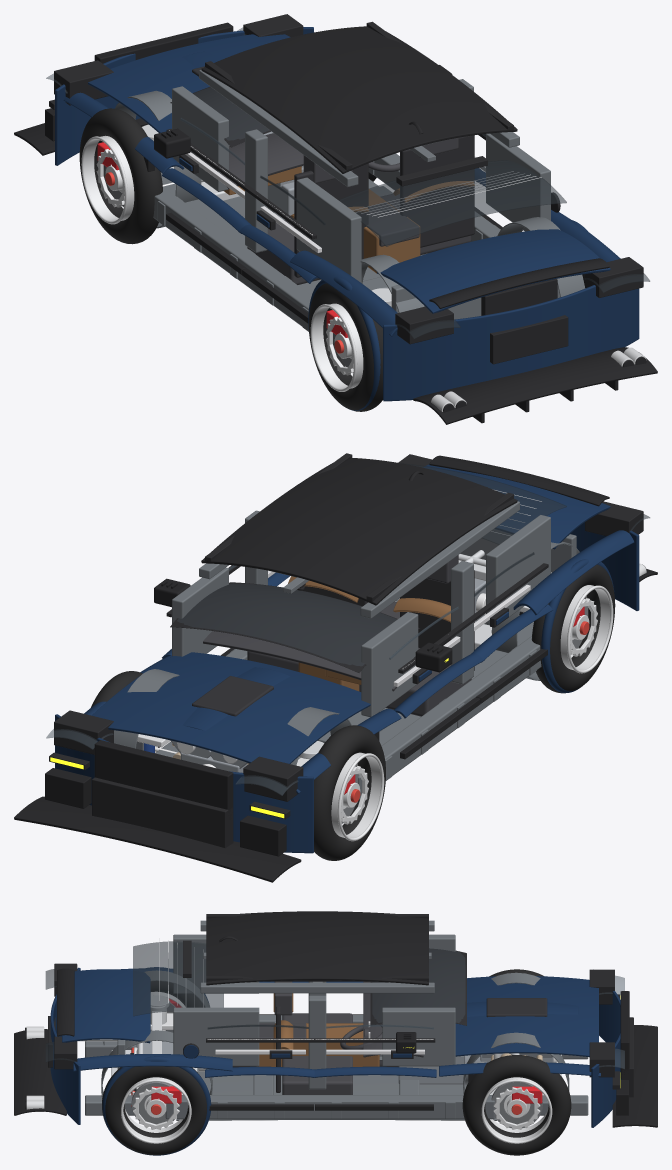
The model's file is Car_Sedan_Complete.glb.
3 renders of one model, top to bottom at view 1: azimuth 30°, elevation 25°; view 2: azimuth 150°, elevation 25°; view 3: azimuth 270°, elevation 25°, orthographic. The views are drawn at different scales.
Visible parts, largest first — view 1: ROOF_SKIN_CARBON, BODY_BUMPER_REAR, GLASS_REAR_BACKLIGHT, TRUNK_DECKLID_SHELL, REAR_BUMPER_DIFFUSER_TRAY, BODY_HOOD_OUTER, SEAT_SHELL_DRIVER, TIRE_FR, BIW_C_PILLAR_LEFT, BIW_C_PILLAR_RIGHT, BIW_SILL_-0.75, TIRE_RR (+42 smaller); view 2: ROOF_SKIN_CARBON, BODY_HOOD_OUTER, WINDSHIELD_CERAMIC_FRIT, GLASS_WINDSHIELD_LAMINATED, BUMPER_FRONT_SPLITTER_LIP, GRILLE_SURROUND_BEZEL, BUMPER_CENTER_AIR_DAM, TIRE_FR, BIW_SILL_-0.75, BIW_A_PILLAR_RIGHT, BODY_BUMPER_FRONT, TRUNK_DECKLID_SHELL (+36 smaller); view 3: ROOF_SKIN_CARBON, BODY_HOOD_OUTER, TRUNK_DECKLID_SHELL, TIRE_FL, BIW_SILL_0.75, GLASS_REAR_BACKLIGHT, TIRE_RL, BIW_C_PILLAR_LEFT, BIW_A_PILLAR_LEFT, WINDSHIELD_CERAMIC_FRIT, GLASS_WINDSHIELD_LAMINATED, FLOOR_PAN (+52 smaller).
Part boxes in pixels (x1,y1,x2,y2): ROOF_SKIN_CARBON: (201,26,517,173); BODY_BUMPER_REAR: (383,285,639,401); GLASS_REAR_BACKLIGHT: (338,160,566,246); TRUNK_DECKLID_SHELL: (377,229,610,313); REAR_BUMPER_DIFFUSER_TRAY: (413,347,657,424); BODY_HOOD_OUTER: (88,34,290,132); SEAT_SHELL_DRIVER: (400,135,474,247); TIRE_FR: (79,108,162,244); BIW_C_PILLAR_LEFT: (486,133,550,231); BIW_C_PILLAR_RIGHT: (296,177,361,282); BIW_SILL_-0.75: (153,187,336,351); TIRE_RR: (308,283,382,411); ROOF_SKIN_CARBON: (201,458,517,605); BODY_HOOD_OUTER: (92,652,370,763); WINDSHIELD_CERAMIC_FRIT: (170,582,419,672); GLASS_WINDSHIELD_LAMINATED: (177,583,396,665); BUMPER_FRONT_SPLITTER_LIP: (14,796,301,882); GRILLE_SURROUND_BEZEL: (94,740,233,819); BUMPER_CENTER_AIR_DAM: (92,777,233,848); TIRE_FR: (314,725,385,860); BIW_SILL_-0.75: (358,636,541,799); BIW_A_PILLAR_RIGHT: (361,612,418,717); BODY_BUMPER_FRONT: (55,714,313,853); TRUNK_DECKLID_SHELL: (423,464,610,549); ROOF_SKIN_CARBON: (206,911,428,985); BODY_HOOD_OUTER: (455,976,598,1057); TRUNK_DECKLID_SHELL: (62,969,150,1043); TIRE_FL: (462,1055,571,1155); BIW_SILL_0.75: (165,1095,494,1119); GLASS_REAR_BACKLIGHT: (133,941,223,1016); TIRE_RL: (102,1066,206,1155); BIW_C_PILLAR_LEFT: (173,1007,259,1066); BIW_A_PILLAR_LEFT: (382,1007,455,1066); WINDSHIELD_CERAMIC_FRIT: (370,948,466,1025); GLASS_WINDSHIELD_LAMINATED: (372,948,465,1022); FLOOR_PAN: (176,1056,496,1120).
Bounding box in the file's own units: 2.06 × 1.53 × 5.09.
